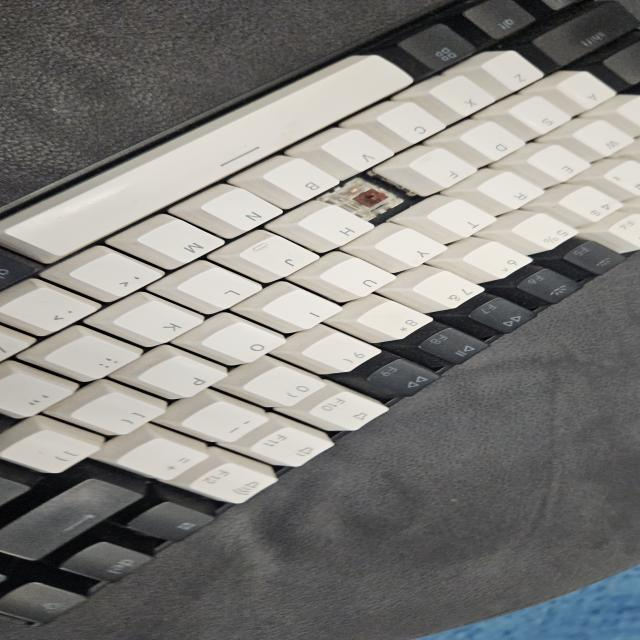C: (340, 183, 392, 209)
